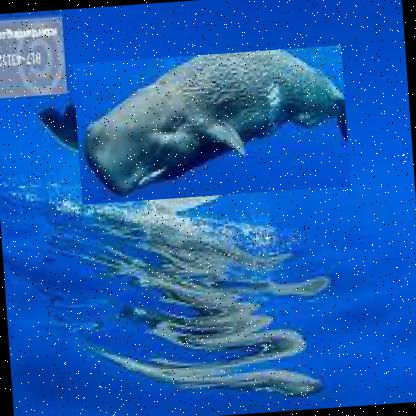sperm_whale: (72, 44, 350, 204)
